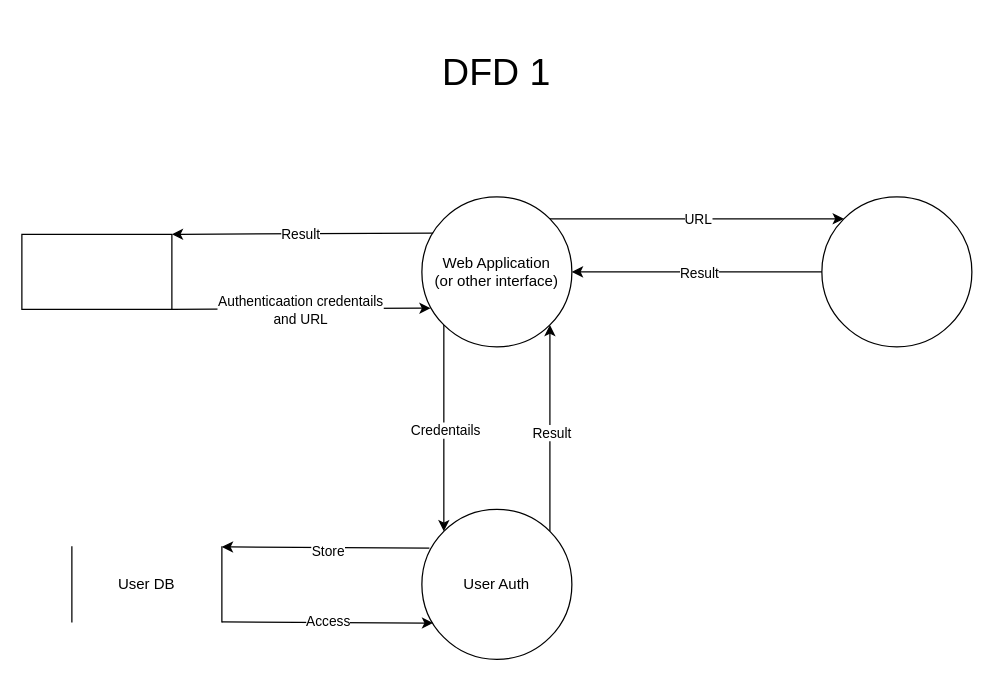
Image size: 994x681. Some labels were removed from this diagram. Each missing label, with the box of its shape:
Client: (21, 233, 172, 309)
URL Detection Service: (821, 196, 972, 347)
